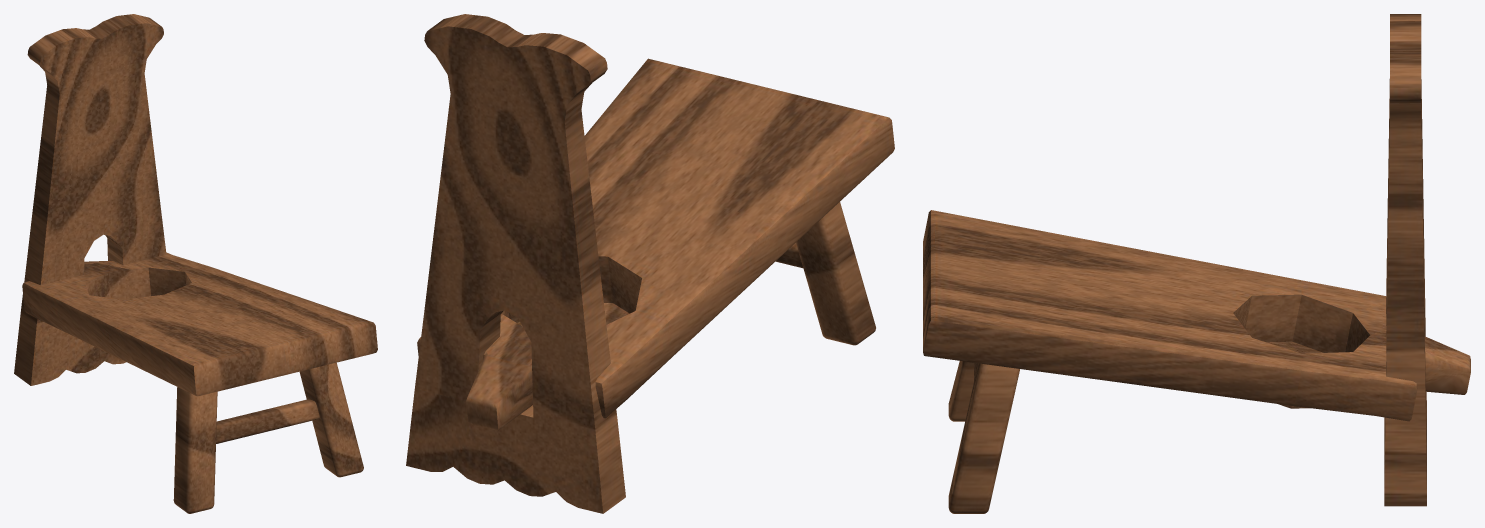
Rendered from Yaktle_body.fbx.
The picture shows the model from 3 angles, left to right: view 1: azimuth 30°, elevation 25°; view 2: azimuth 150°, elevation 25°; view 3: azimuth 270°, elevation 25°; orthographic projection. The views are drawn at different scales.
Visible parts, largest first — view 1: Yaktle_body; view 2: Yaktle_body; view 3: Yaktle_body.
Part boxes in pixels (box(x1,y1,x2,y2)): Yaktle_body: box(14, 14, 377, 513); Yaktle_body: box(406, 14, 894, 513); Yaktle_body: box(923, 14, 1470, 513).
Bounding box in the file's own units: 130 × 229 × 269.
1 material, 1 textured.
